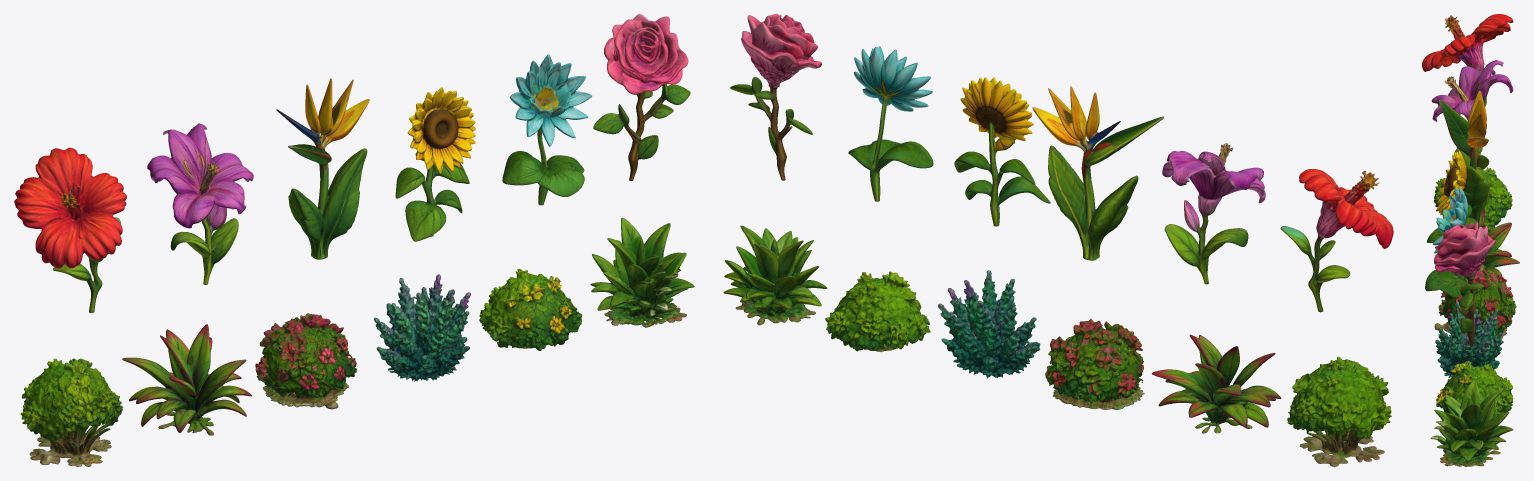
File: buesche_original.glb
3 views of the same model, side by side, from view 1: azimuth 30°, elevation 25°; view 2: azimuth 150°, elevation 25°; view 3: azimuth 270°, elevation 25° (orthographic). The views are drawn at different scales.
Size of the model in its own units: 1.9 by 0.8375 by 0.3088.
Materials: 1 (1 with a texture image).
